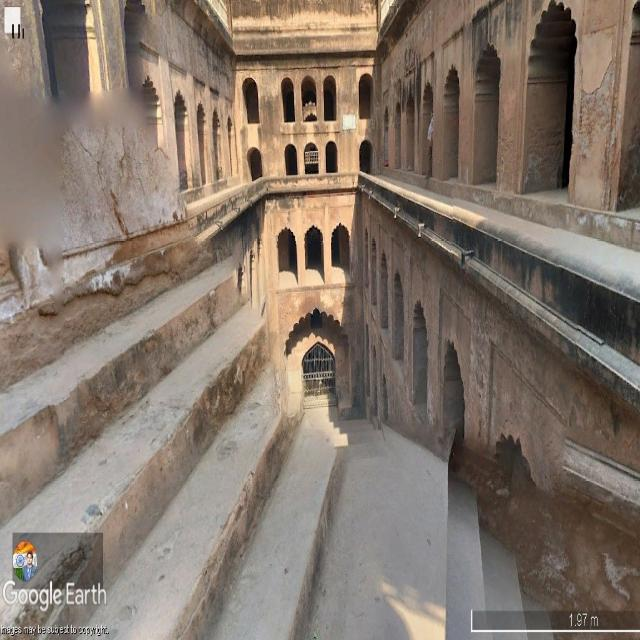objects-ruins-artifacts: (351, 101, 619, 372), (24, 132, 289, 404)
